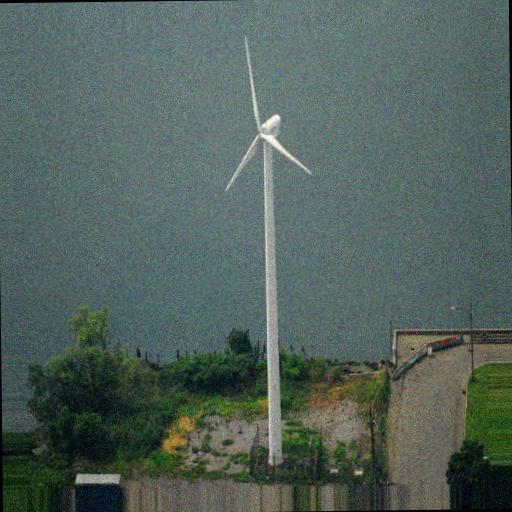wind turbine: (223, 32, 318, 462)
